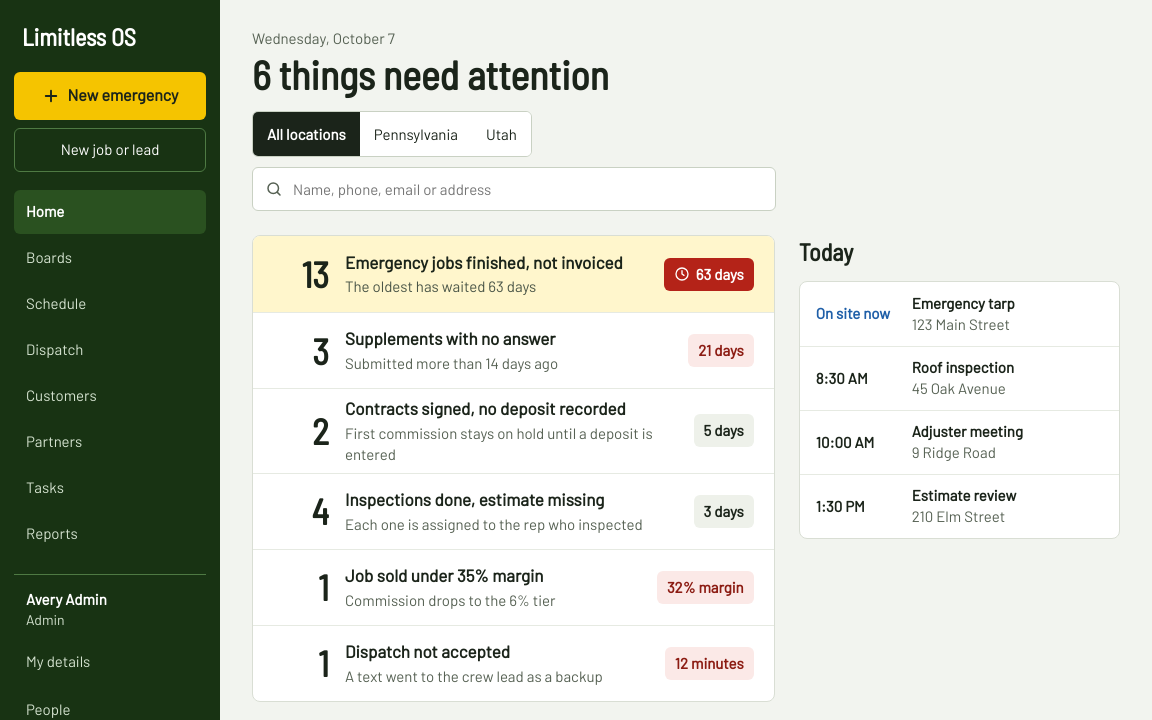
Test case: app shell › sends other links to a page that says the screen arrives later
Click the link "Boards" at (49, 257), box [26,248,72,266]
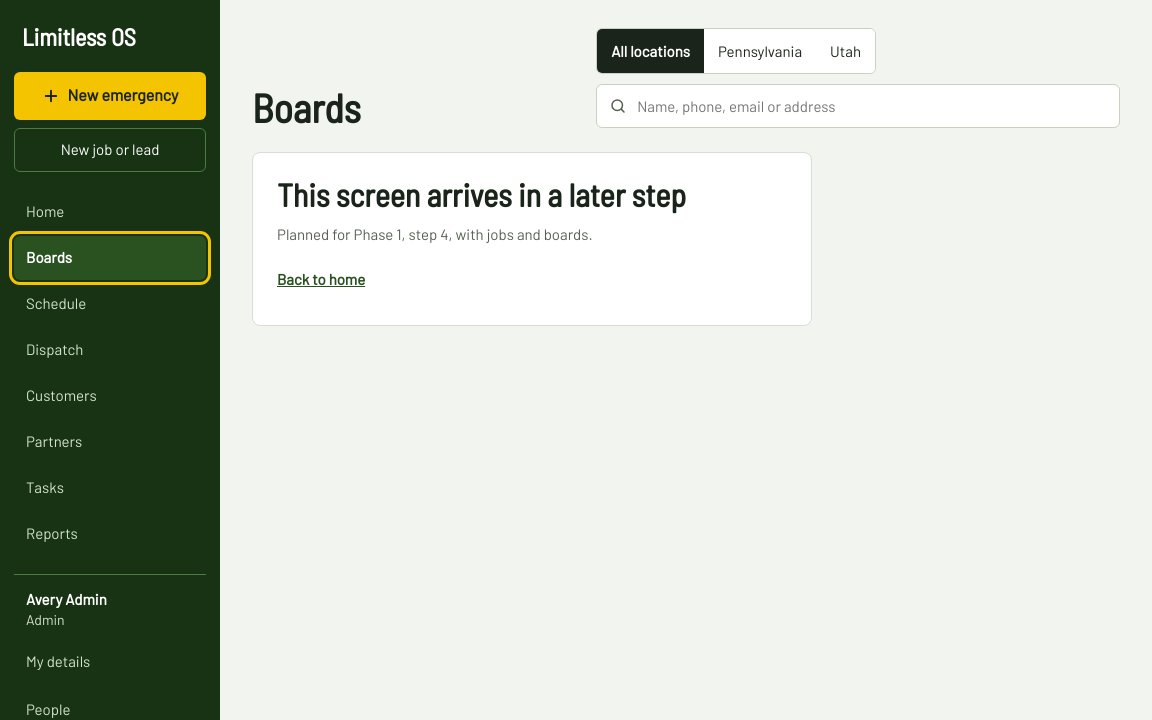
Result: the heading "Boards" is shown at [252,86,361,128]
Result: the heading "This screen arrives in a later step" is shown at [277,175,686,213]
